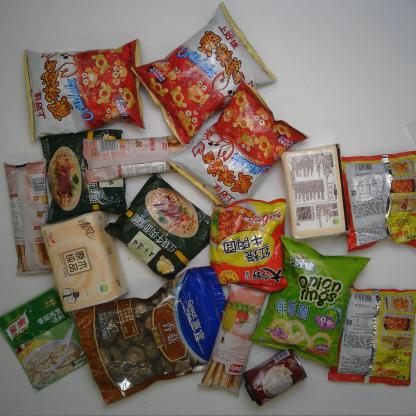Canned Food: (238, 344, 310, 413)
Dessert: (198, 280, 271, 398), (3, 158, 54, 277), (78, 127, 182, 184)
Dried Food: (73, 265, 236, 407)
Instant Noodles: (104, 170, 222, 281), (327, 284, 415, 386), (38, 126, 128, 224), (208, 197, 290, 294), (340, 148, 415, 252)
Puffed Food: (131, 1, 277, 147), (168, 81, 312, 209), (247, 232, 372, 368), (23, 37, 147, 144)
Seasoner: (0, 285, 96, 393)
Tissue: (40, 209, 129, 314), (279, 142, 352, 243)
